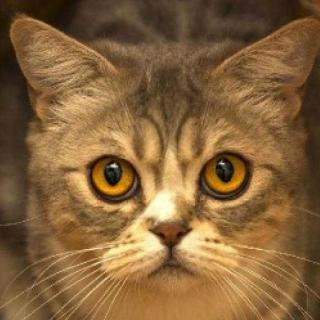cat: (7, 7, 320, 293)
nose: (135, 196, 201, 248)
